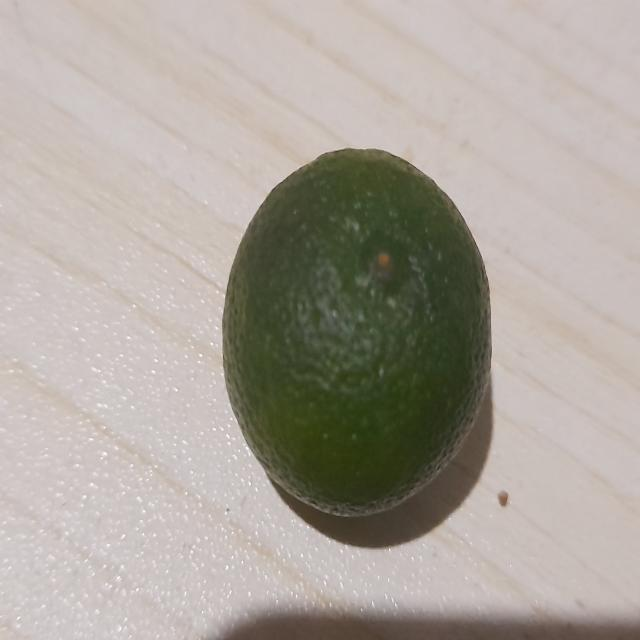heathy: (226, 140, 500, 530)
